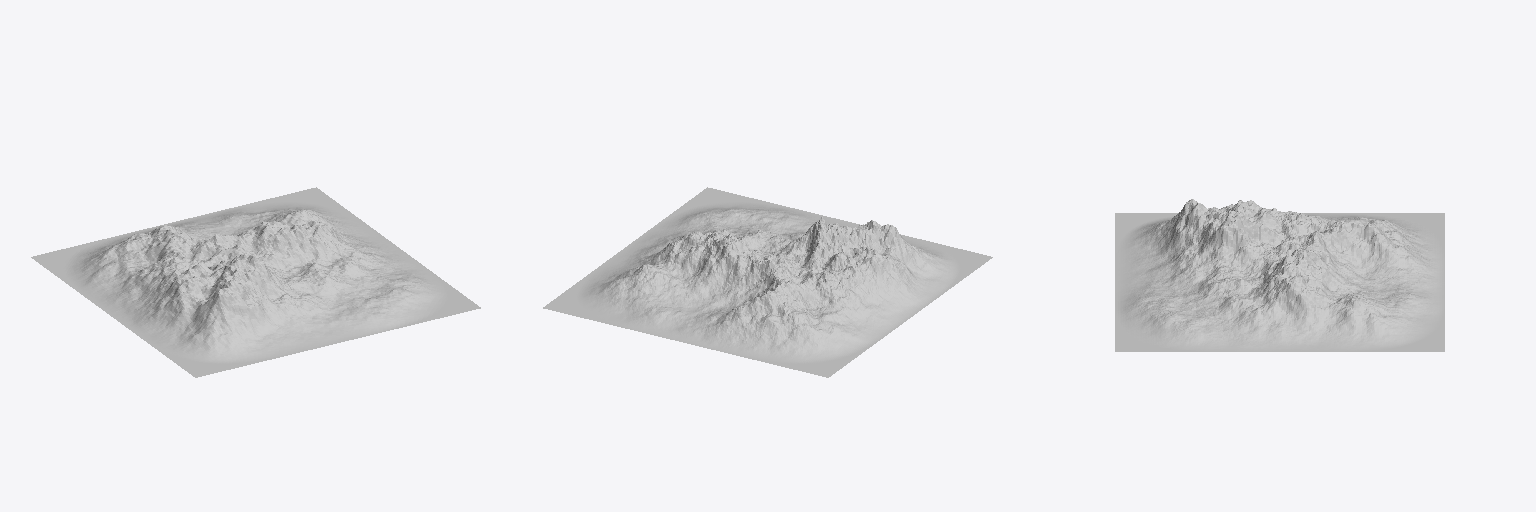
The model's file is Landscape.obj.
3 views of the same model, side by side, from view 1: azimuth 30°, elevation 25°; view 2: azimuth 150°, elevation 25°; view 3: azimuth 270°, elevation 25° (orthographic).
Parts seen in each view (by area): view 1: Landscape; view 2: Landscape; view 3: Landscape.
Part boxes in pixels (x1,y1,x2,y2): Landscape: (31,187,480,377); Landscape: (543,187,992,377); Landscape: (1115,199,1444,351).
Size of the model in its own units: 3 by 0.534 by 3.